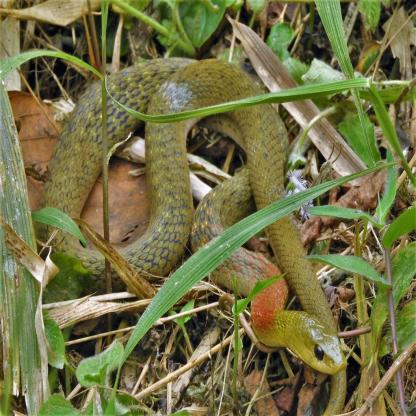Snake: (38, 50, 351, 375)
